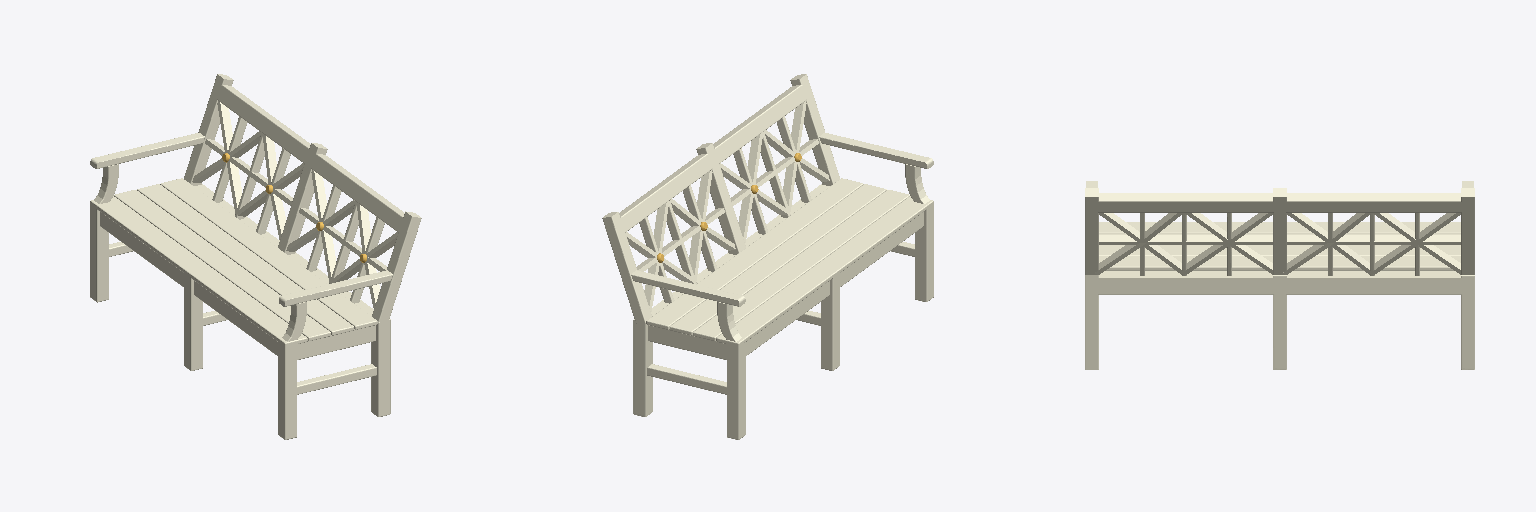
Rendered from Bench.obj.
3 views of the same model, side by side, from view 1: azimuth 30°, elevation 25°; view 2: azimuth 150°, elevation 25°; view 3: azimuth 270°, elevation 25° (orthographic).
Parts seen in each view (by area): view 1: Box[number redacted]; view 2: Box[number redacted]; view 3: Box[number redacted].
Boxes of the visible parts, <box> form: Box[number redacted]: <box>90,74,421,439</box>; Box[number redacted]: <box>602,74,933,439</box>; Box[number redacted]: <box>1085,181,1474,369</box>.
Size of the model in its own units: 648 by 871 by 1600.